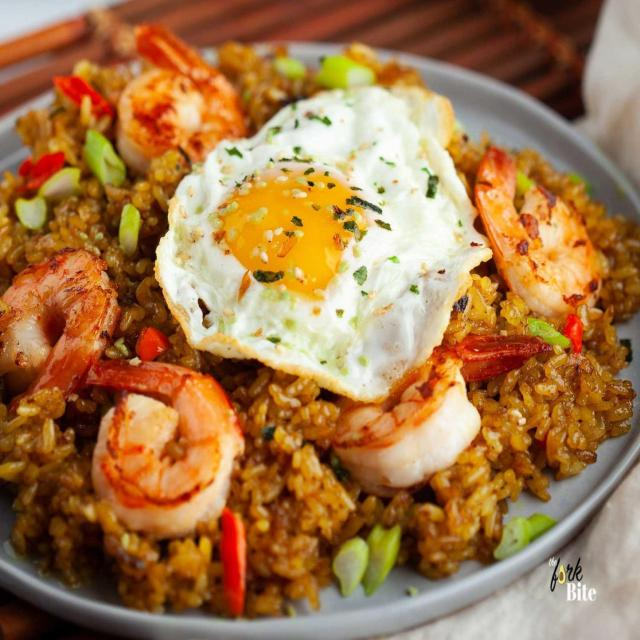Nasi Goreng: (8, 83, 634, 577)
